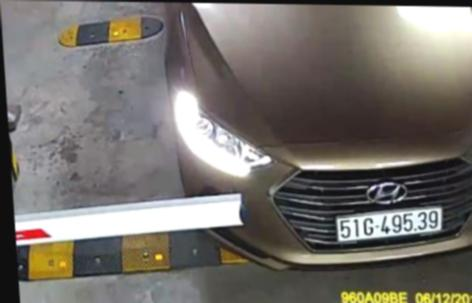License_Plate: (333, 207, 449, 243)
